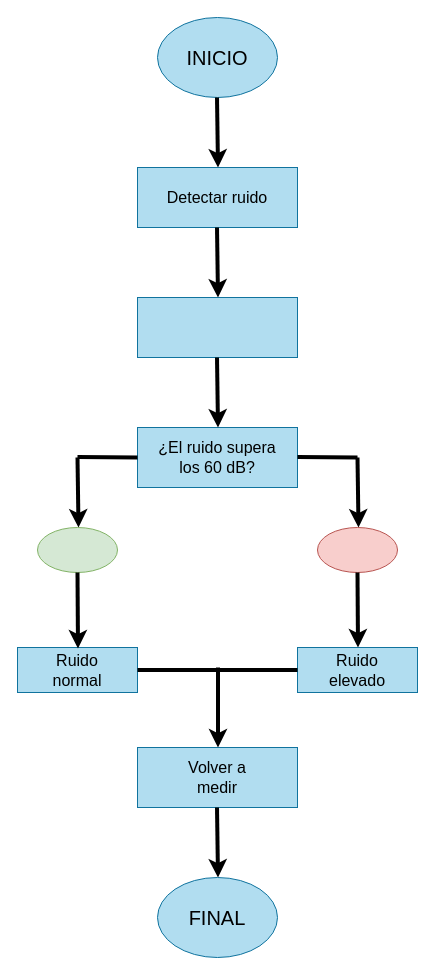
Image size: 435x975. Some labels were removed from this diagram. Here are the shapes that lost their labels. From the top down, the centre of each, then its label:
point (217, 327): Medir la intensidad
point (77, 549): NO
point (357, 549): SI
